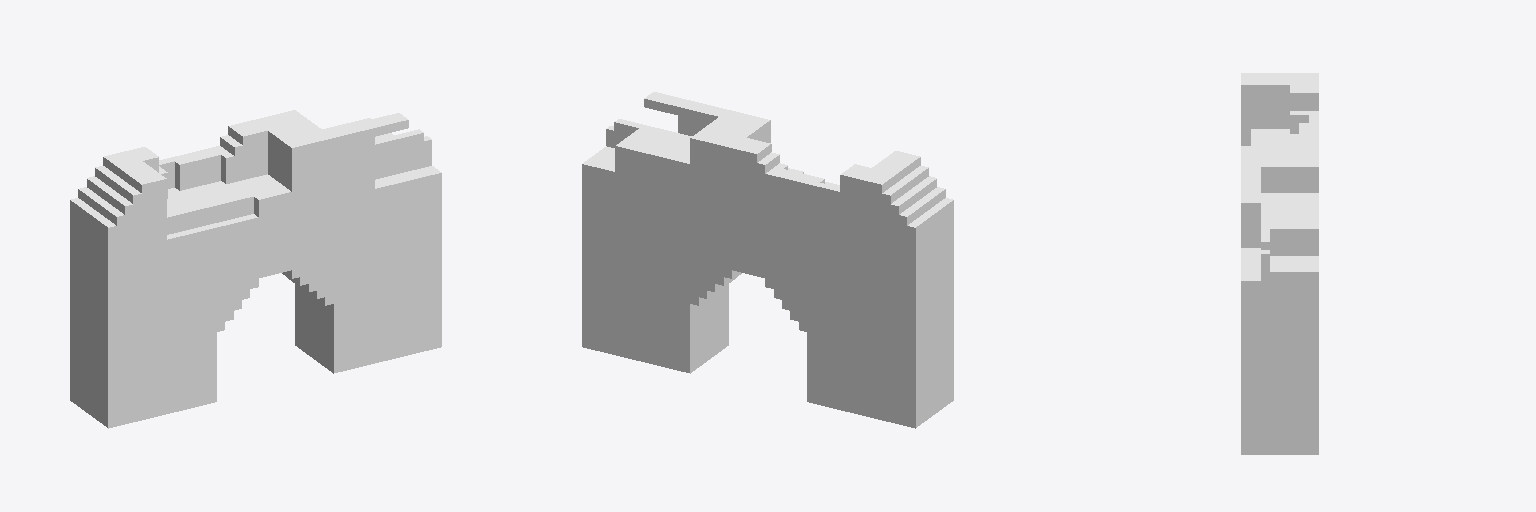
Rendered from defence.vox-1-2.obj.
3 renders of one model, left to right at view 1: azimuth 30°, elevation 25°; view 2: azimuth 150°, elevation 25°; view 3: azimuth 270°, elevation 25°, orthographic.
Visible parts, largest first — view 1: 2; view 2: 2; view 3: 2.
Boxes of the visible parts, x1,y1,x2,y2 form: 2: [70, 110, 441, 428]; 2: [582, 92, 953, 428]; 2: [1241, 73, 1318, 454].
Size of the model in its own units: 4 by 2.7 by 0.8.